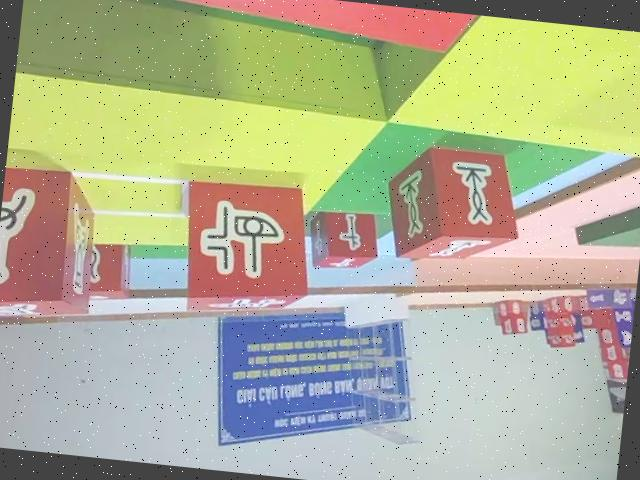R2 Real: (175, 174, 319, 325), (382, 144, 526, 272), (0, 164, 103, 335), (309, 207, 383, 273)
